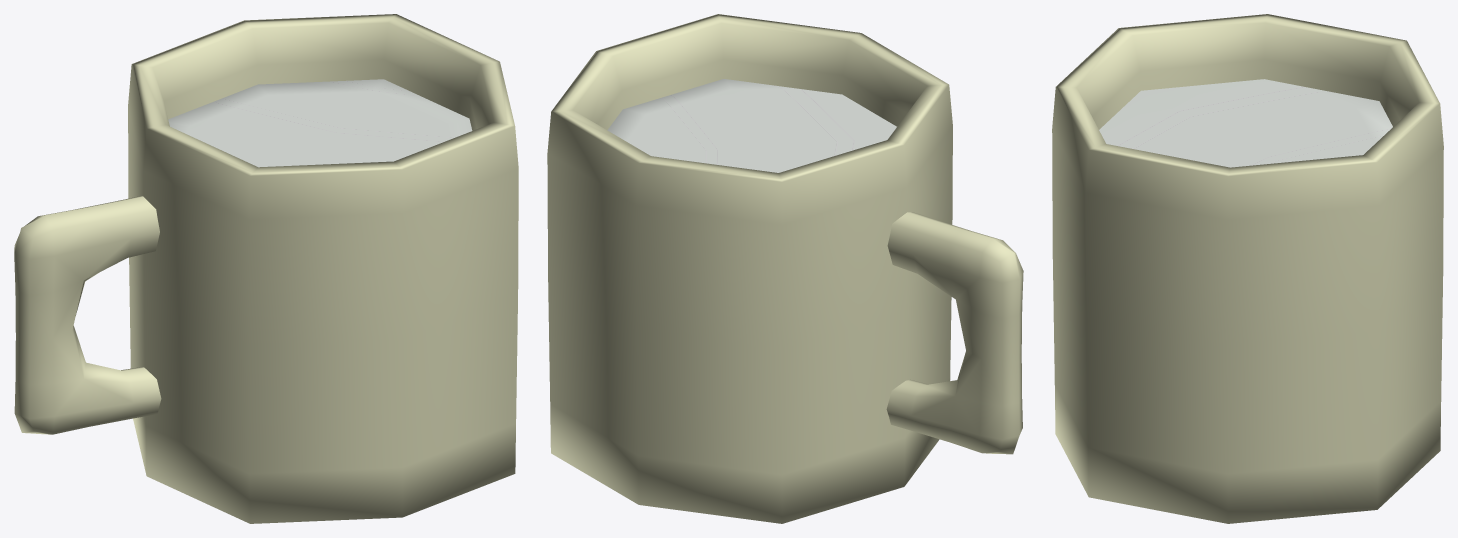
Rendered from CoffeeCup.fbx.
3 renders of one model, left to right at view 1: azimuth 30°, elevation 25°; view 2: azimuth 150°, elevation 25°; view 3: azimuth 270°, elevation 25°, orthographic.
Visible parts, largest first — view 1: MilkJar, Contents2; view 2: MilkJar, Contents2; view 3: MilkJar, Contents2.
Part boxes in pixels (box(x1,y1,x2,y2)): MilkJar: box(14, 14, 518, 523); Contents2: box(168, 79, 472, 167); MilkJar: box(547, 14, 1023, 523); Contents2: box(607, 79, 896, 172); MilkJar: box(1052, 14, 1443, 523); Contents2: box(1099, 79, 1392, 167).
Bounding box in the file's own units: 0.6554 × 0.4869 × 0.4822.
2 materials, 1 textured.
